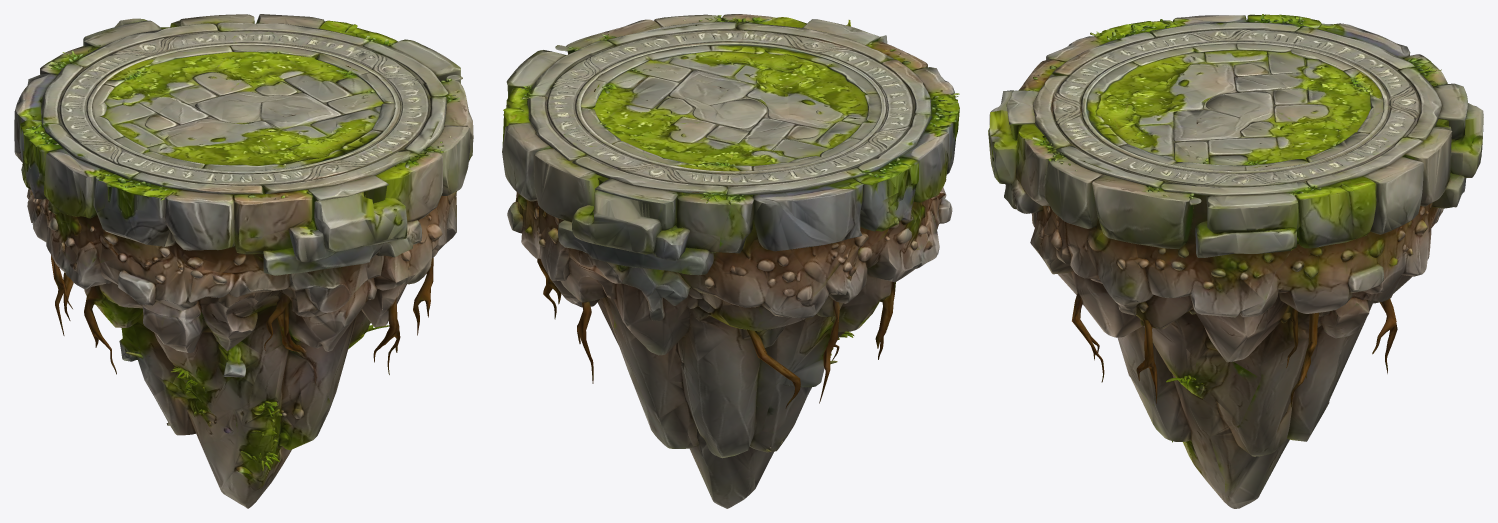
Rendered from island.glb.
3 renders of one model, left to right at view 1: azimuth 30°, elevation 25°; view 2: azimuth 150°, elevation 25°; view 3: azimuth 270°, elevation 25°, orthographic.
Visible parts, largest first — view 1: item0; view 2: item0; view 3: item0.
Part boxes in pixels (left/top/right/bottom): item0: left=14, top=14, right=473, bottom=508; item0: left=502, top=14, right=959, bottom=508; item0: left=988, top=14, right=1483, bottom=508.
Bounding box in the file's own units: 1.87 × 1.79 × 2.
Materials: 1 (1 with a texture image).
